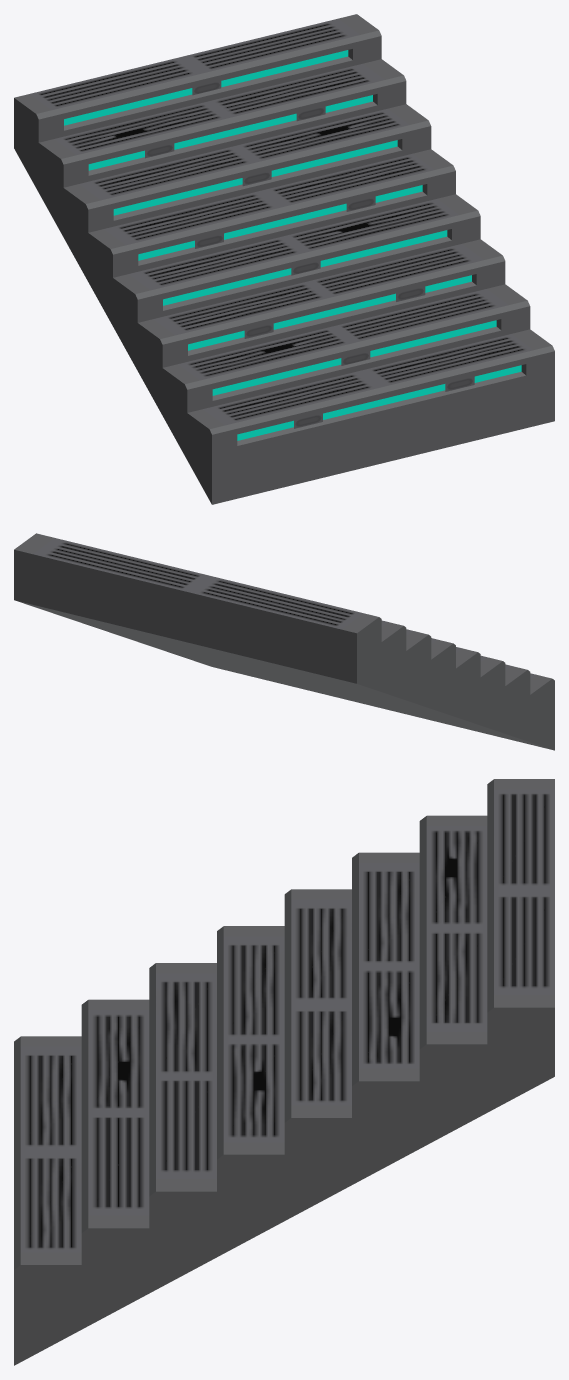
Rendered from SM_Bld_Stairs_01.fbx.
3 renders of one model, top to bottom at view 1: azimuth 30°, elevation 25°; view 2: azimuth 150°, elevation 25°; view 3: azimuth 270°, elevation 25°, orthographic. The views are drawn at different scales.
Visible parts, largest first — view 1: SM_Bld_Stairs_01; view 2: SM_Bld_Stairs_01; view 3: SM_Bld_Stairs_01.
Boxes of the visible parts, x1,y1,x2,y2 form: SM_Bld_Stairs_01: [14, 14, 554, 504]; SM_Bld_Stairs_01: [14, 533, 554, 750]; SM_Bld_Stairs_01: [14, 779, 554, 1365].
Size of the model in its own units: 250 by 183 by 250.
